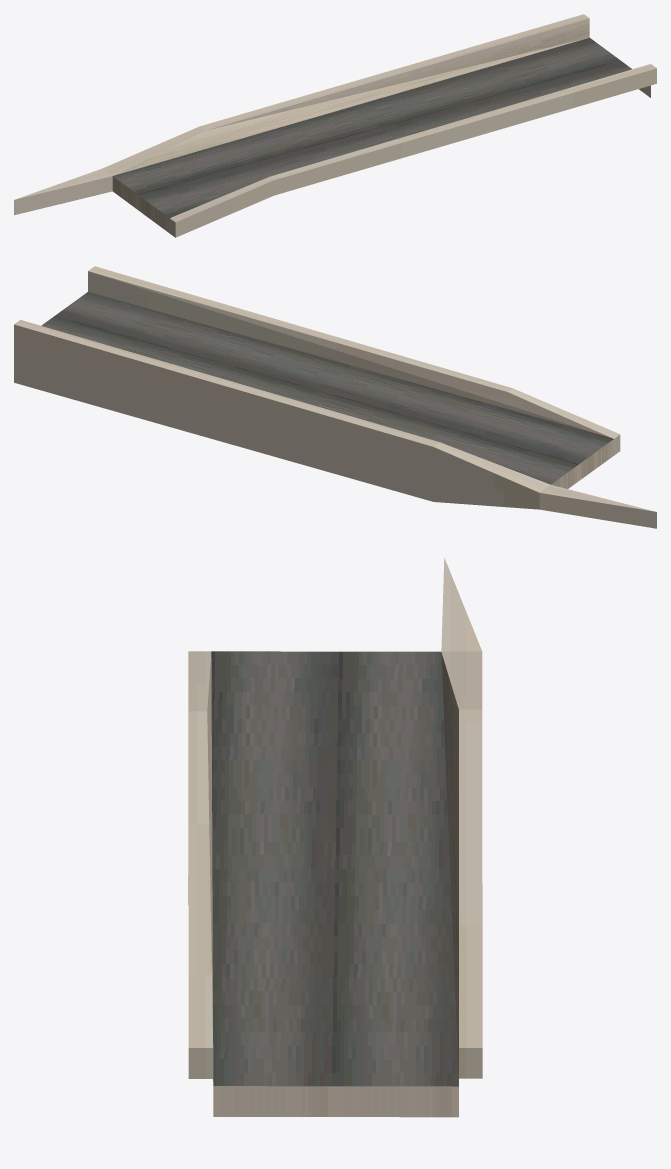
The model's file is lodroadssfse29.obj.
The picture shows the model from 3 angles, top to bottom: view 1: azimuth 30°, elevation 25°; view 2: azimuth 150°, elevation 25°; view 3: azimuth 270°, elevation 25°; orthographic projection. The views are drawn at different scales.
Visible parts, largest first — view 1: LODroadsSFSE29; view 2: LODroadsSFSE29; view 3: LODroadsSFSE29.
Part boxes in pixels (x1,y1,x2,y2): LODroadsSFSE29: [14, 14, 656, 237]; LODroadsSFSE29: [14, 266, 656, 528]; LODroadsSFSE29: [188, 558, 482, 1117].
Size of the model in its own units: 150 by 17.04 by 32.99.
2 materials, 2 textured.
